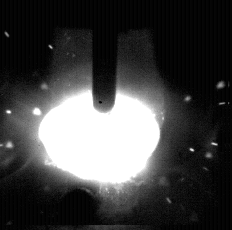arame: (92, 0, 117, 113)
poca: (38, 0, 161, 230)
